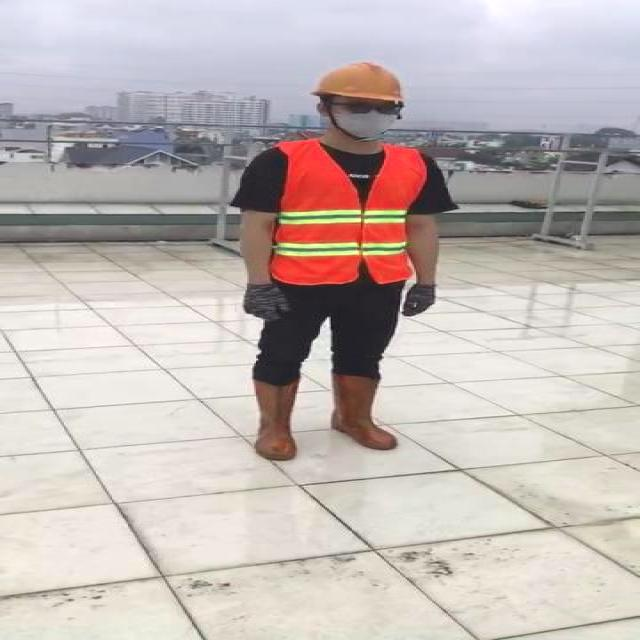boots: (326, 375, 398, 451), (246, 378, 305, 461)
face_mask: (334, 98, 404, 138)
glasses: (337, 99, 408, 117)
hand_glove: (240, 282, 293, 323), (402, 284, 437, 319)
head_helmet: (309, 61, 411, 100)
person: (226, 59, 455, 465)
vest: (263, 139, 430, 286)
